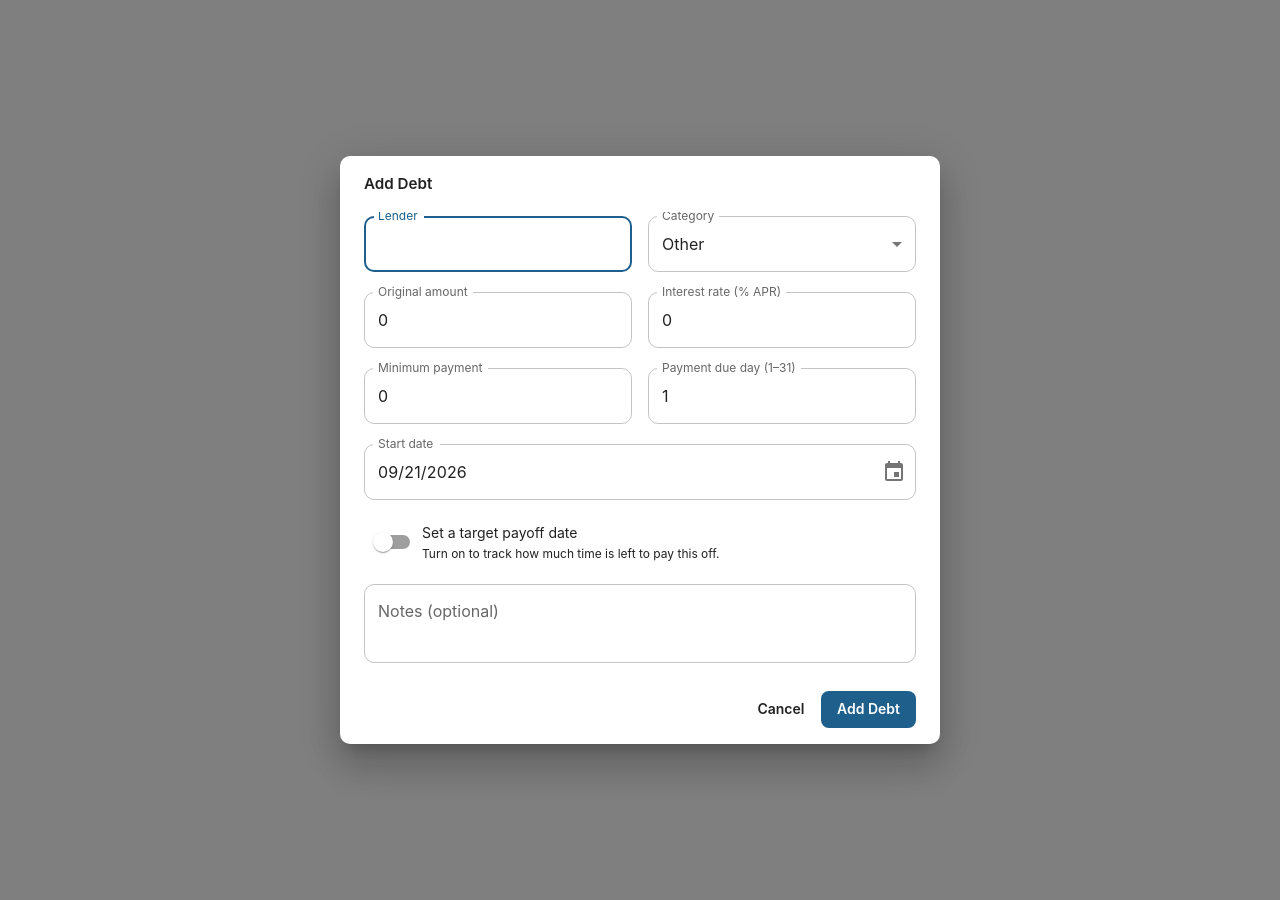
Test: DebtFormDialog › does not show the target payoff date field until the toggle is on
This screenshot has width=1280, height=900.
Click the switch labelled "Set a target payoff date" at (546, 543), box [373,524,720,562]
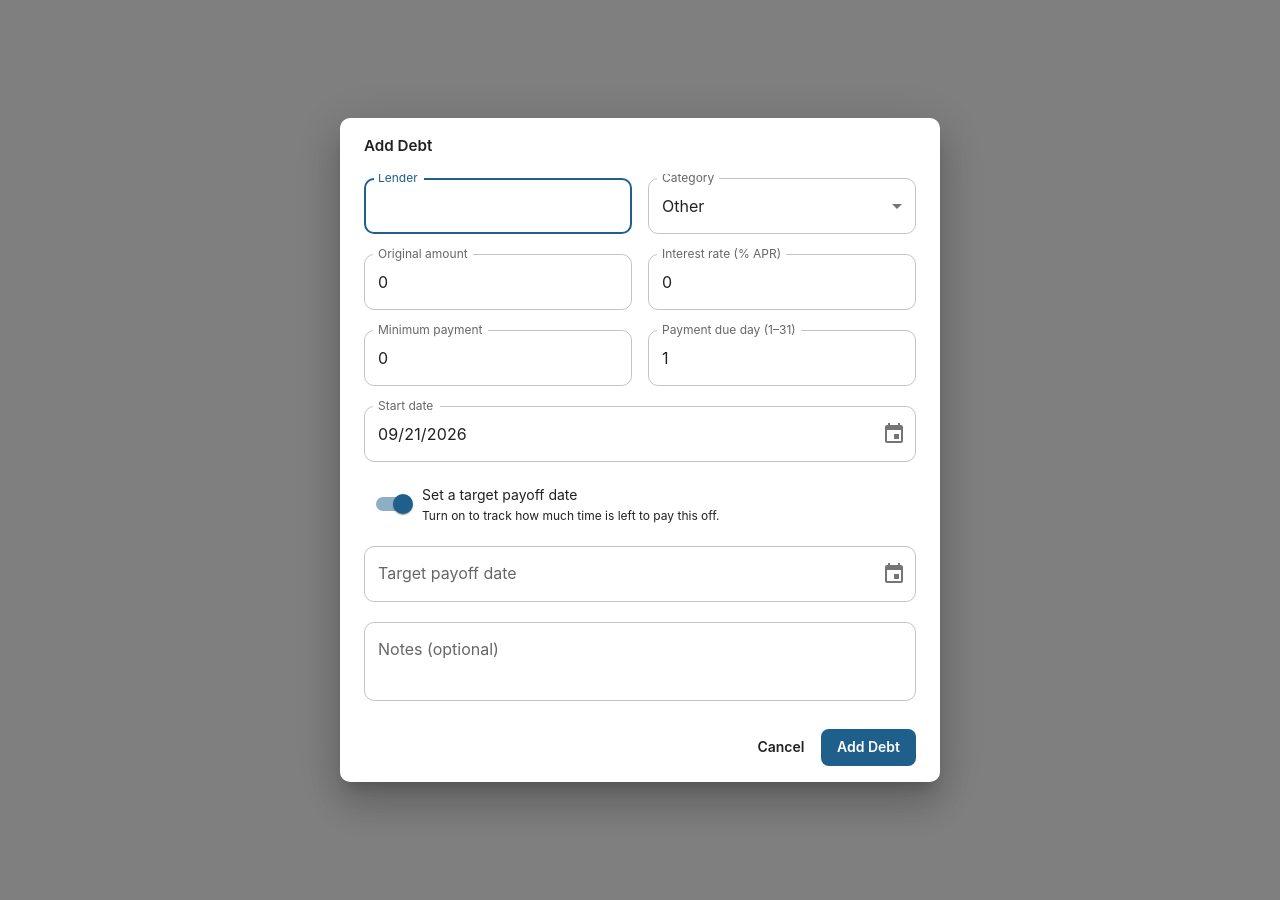
Result: the 12th element named "Target payoff date" is shown at [364,546,916,602]
